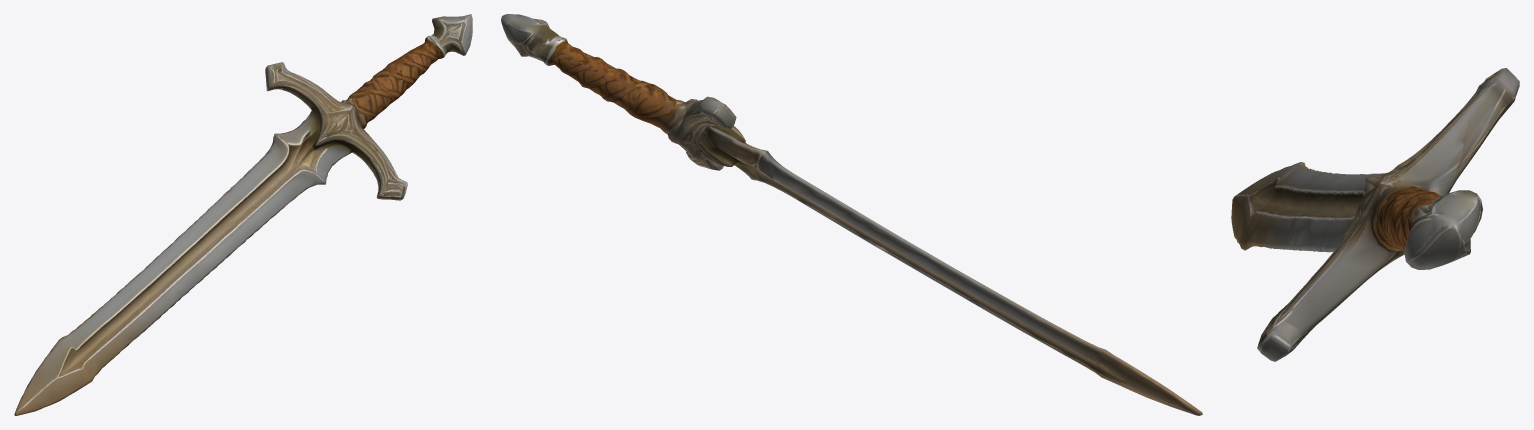
File: sword-production-lowpoly.glb
3 views of the same model, side by side, from view 1: azimuth 30°, elevation 25°; view 2: azimuth 150°, elevation 25°; view 3: azimuth 270°, elevation 25° (orthographic). The views are drawn at different scales.
Visible parts, largest first — view 1: material; view 2: material; view 3: material.
Part boxes in pixels (bbox=[...]): material: bbox=[14, 14, 472, 415]; material: bbox=[501, 14, 1202, 415]; material: bbox=[1231, 68, 1519, 361].
Size of the model in its own units: 1.07 by 0.4803 by 0.2617.
Materials: 1 (1 with a texture image).
